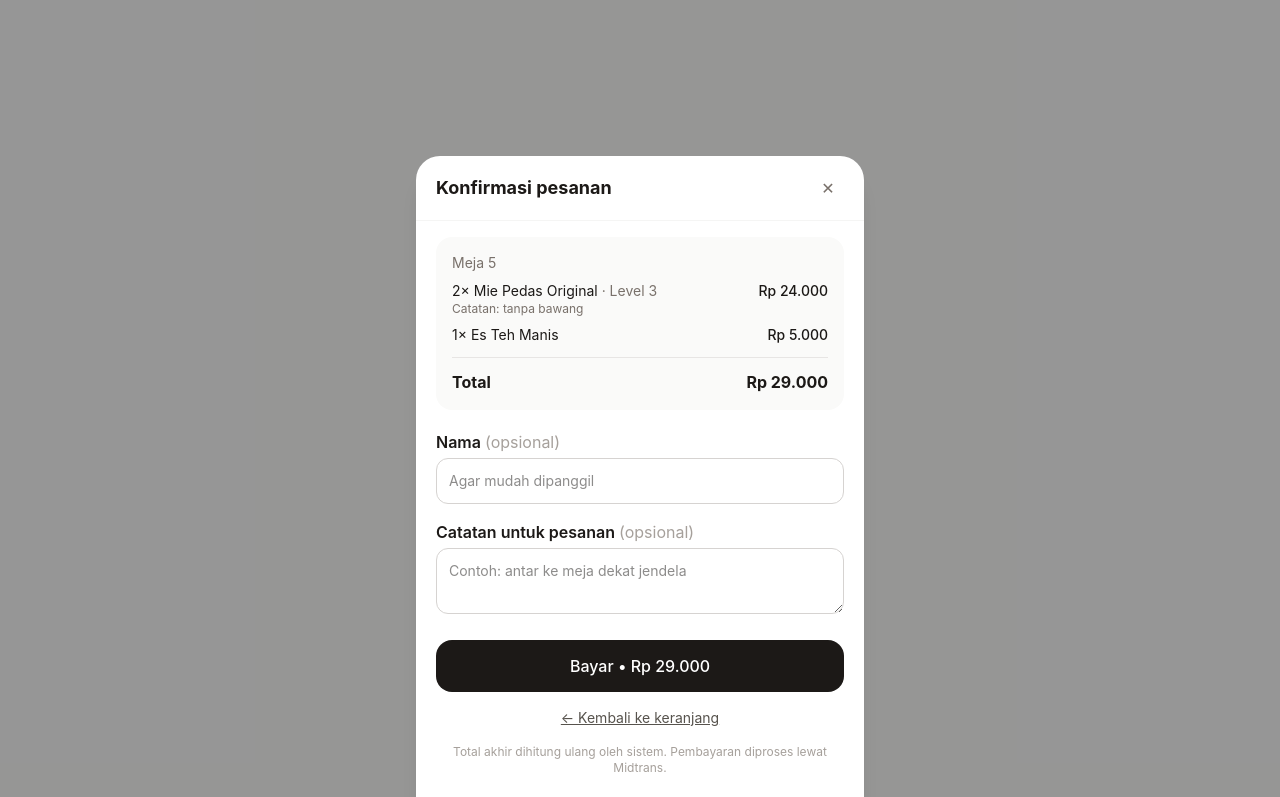
CheckoutSheet › menampilkan error validasi pada field nama
What coordinates should you click on to do the following:
click the button "Bayar • Rp 29.000"
I would click on:
 (640, 666)
Its box is [436, 640, 844, 692].
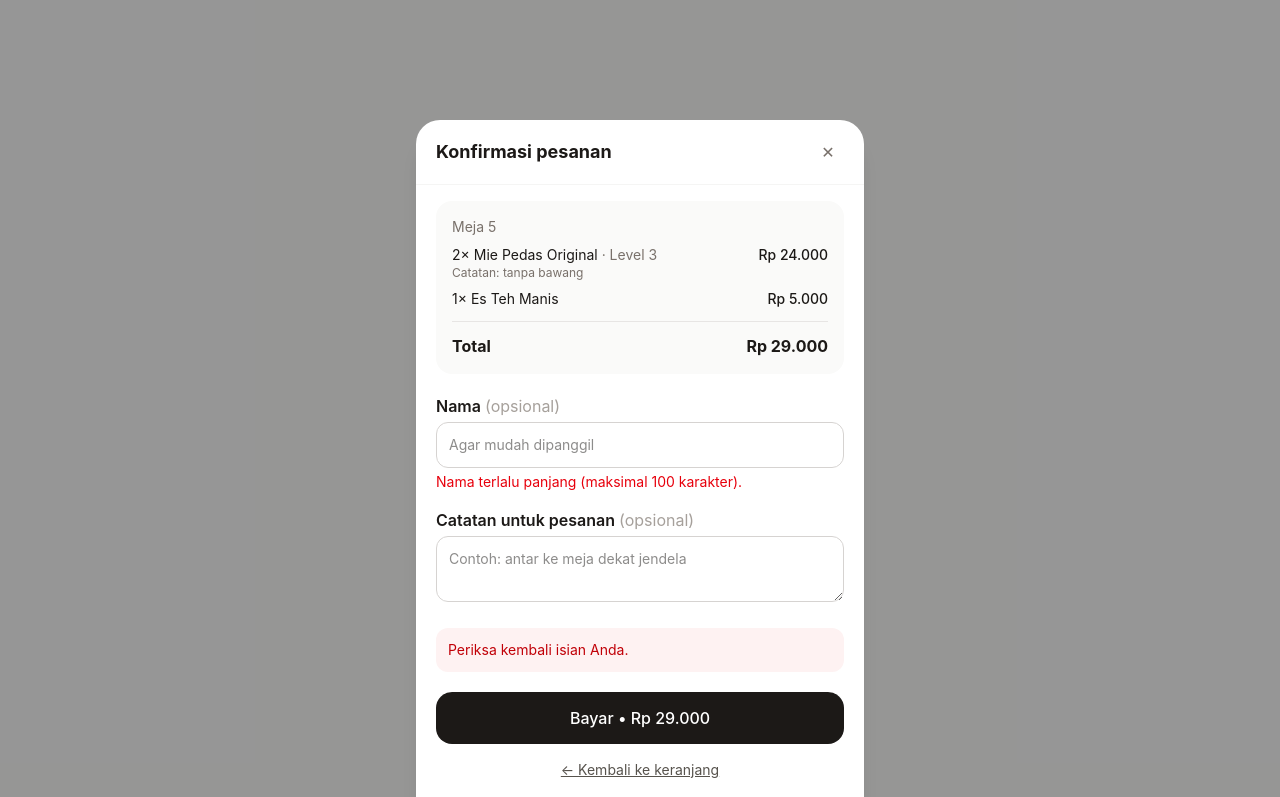
Now the text "Nama terlalu panjang (maksimal 100 karakter)." is shown, box [436, 473, 742, 490]
